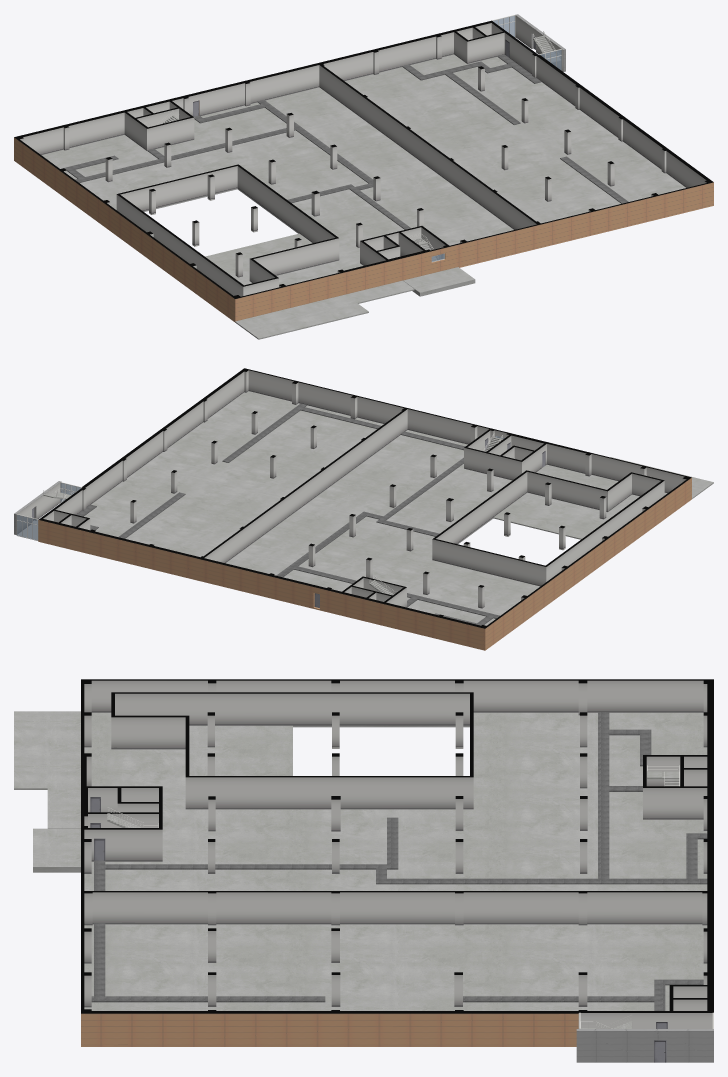
3 renders of one model, top to bottom at view 1: azimuth 30°, elevation 25°; view 2: azimuth 150°, elevation 25°; view 3: azimuth 270°, elevation 25°, orthographic. The views are drawn at different scales.
Visible parts, largest first — view 1: Box1865, Line1560, Line1641, Box1356, Box1864, Line1620; view 2: Line1560, Box1865, Line1641, Line1620; view 3: Line1560, Box1865, Line1641, Box1356, Box1864, Box2032.
Part boxes in pixels (<box>): Box1865: <box>14,14,713,322</box>; Line1560: <box>41,54,685,285</box>; Line1641: <box>64,54,628,229</box>; Box1356: <box>235,280,414,339</box>; Box1864: <box>403,267,475,296</box>; Line1620: <box>431,15,562,262</box>; Line1560: <box>84,391,667,625</box>; Box1865: <box>14,368,691,650</box>; Line1641: <box>76,403,499,625</box>; Line1620: <box>16,435,504,540</box>; Line1560: <box>84,712,707,1010</box>; Box1865: <box>81,679,713,1062</box>; Line1641: <box>91,712,707,1010</box>; Box1356: <box>14,711,80,828</box>; Box1864: <box>33,828,80,872</box>; Box2032: <box>90,797,667,1062</box>.
Bounding box in the file's own units: 67.31 × 3.99 × 56.61.
9 materials, 6 textured.
